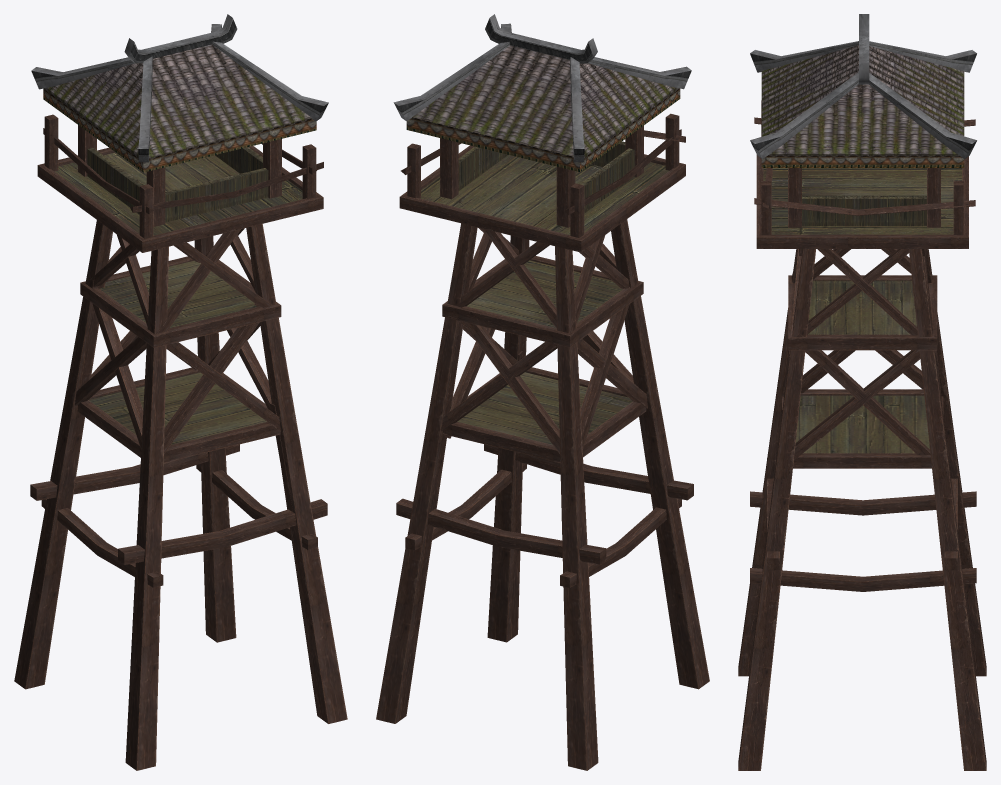
The model's file is talou_shuizhai_42.FBX.
3 renders of one model, left to right at view 1: azimuth 30°, elevation 25°; view 2: azimuth 150°, elevation 25°; view 3: azimuth 270°, elevation 25°, orthographic.
Parts seen in each view (by area): view 1: talou_shuizhai_42; view 2: talou_shuizhai_42; view 3: talou_shuizhai_42.
Boxes of the visible parts, left/top/right/bottom form: talou_shuizhai_42: left=14, top=14, right=347, bottom=770; talou_shuizhai_42: left=376, top=14, right=709, bottom=770; talou_shuizhai_42: left=738, top=14, right=986, bottom=770.
Size of what is drawn, in the model's own units: 886 by 2696 by 891.
